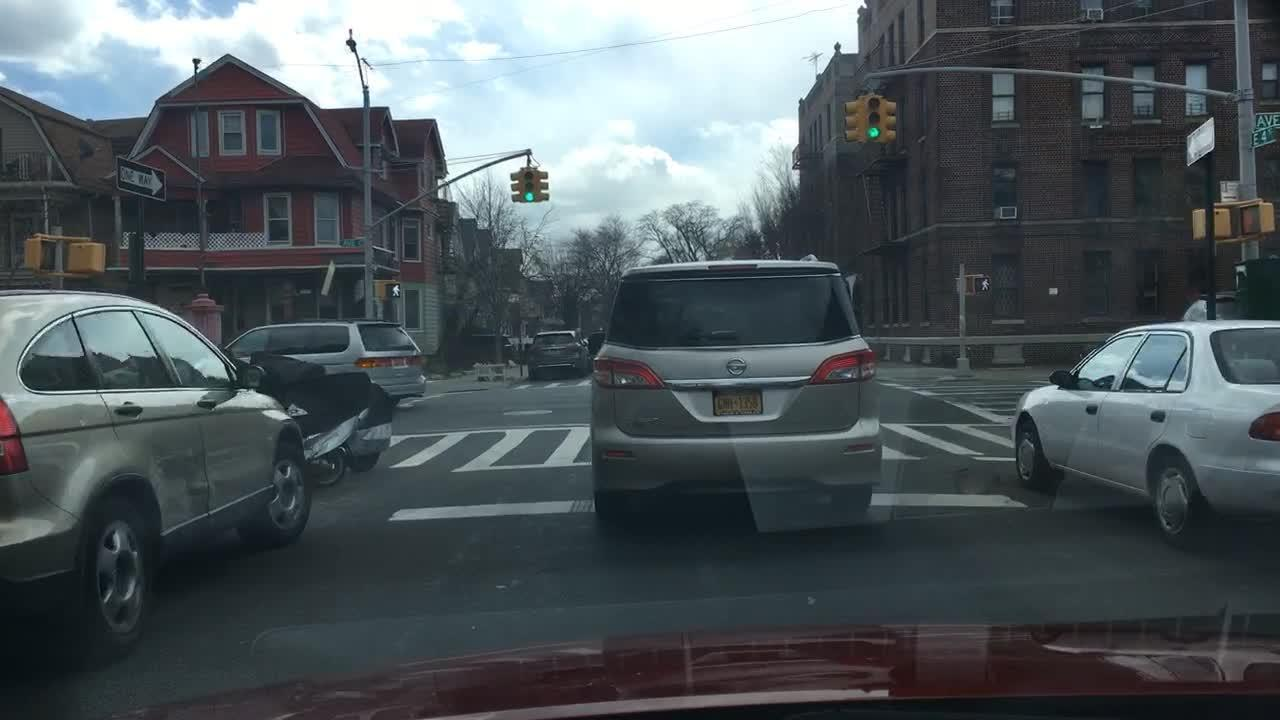Nissan: (720, 352, 754, 383)
